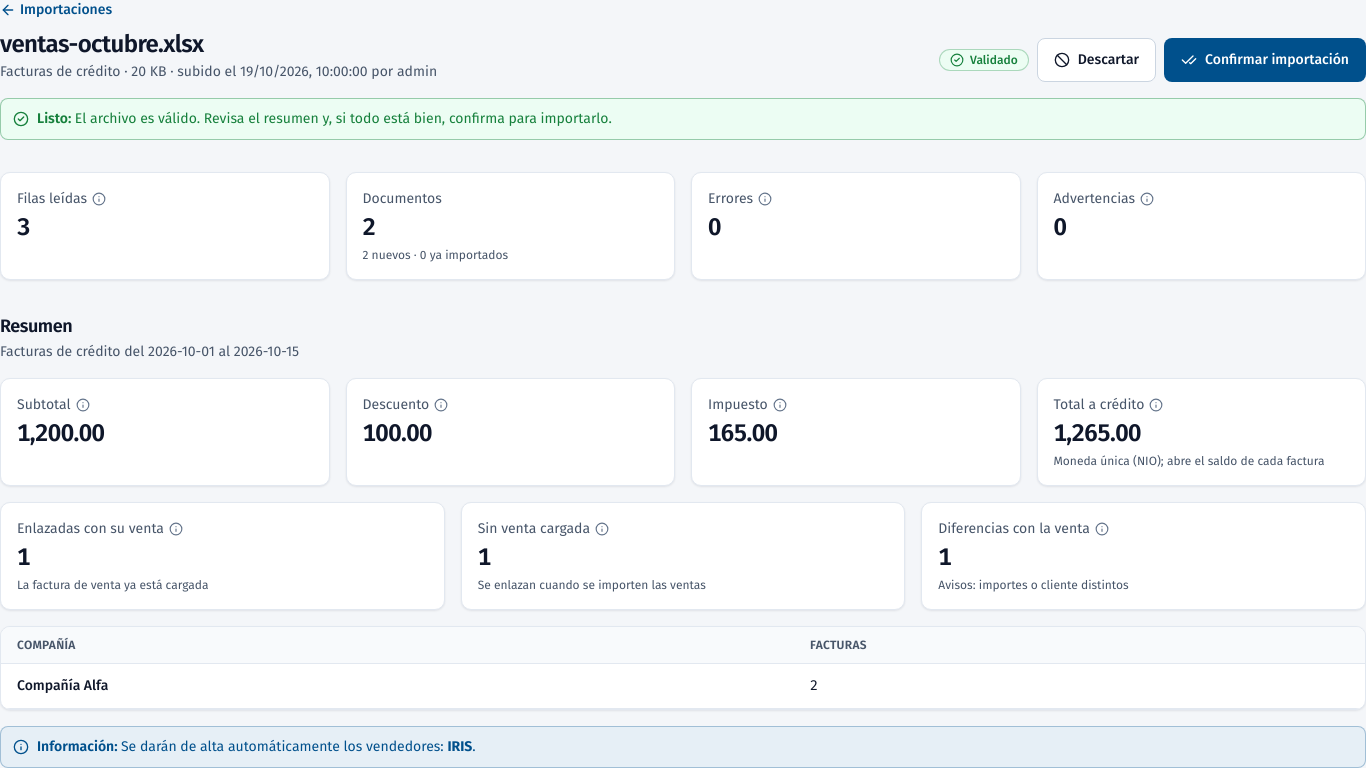
Test case: importaciones › un lote de facturas de crédito muestra totales, enlaces con la venta y su confirmación lo explica
The width and height of the screenshot is (1366, 768).
Expected: the text "Facturas de crédito del 2026-10-01 al 2026-10-15" is shown, [0,342,299,362]
Expected: the text "Total a crédito" shows "1,265.00", [1054,419,1141,447]
Click the button "Confirmar importación" at (1265, 60), box [1164,38,1365,82]
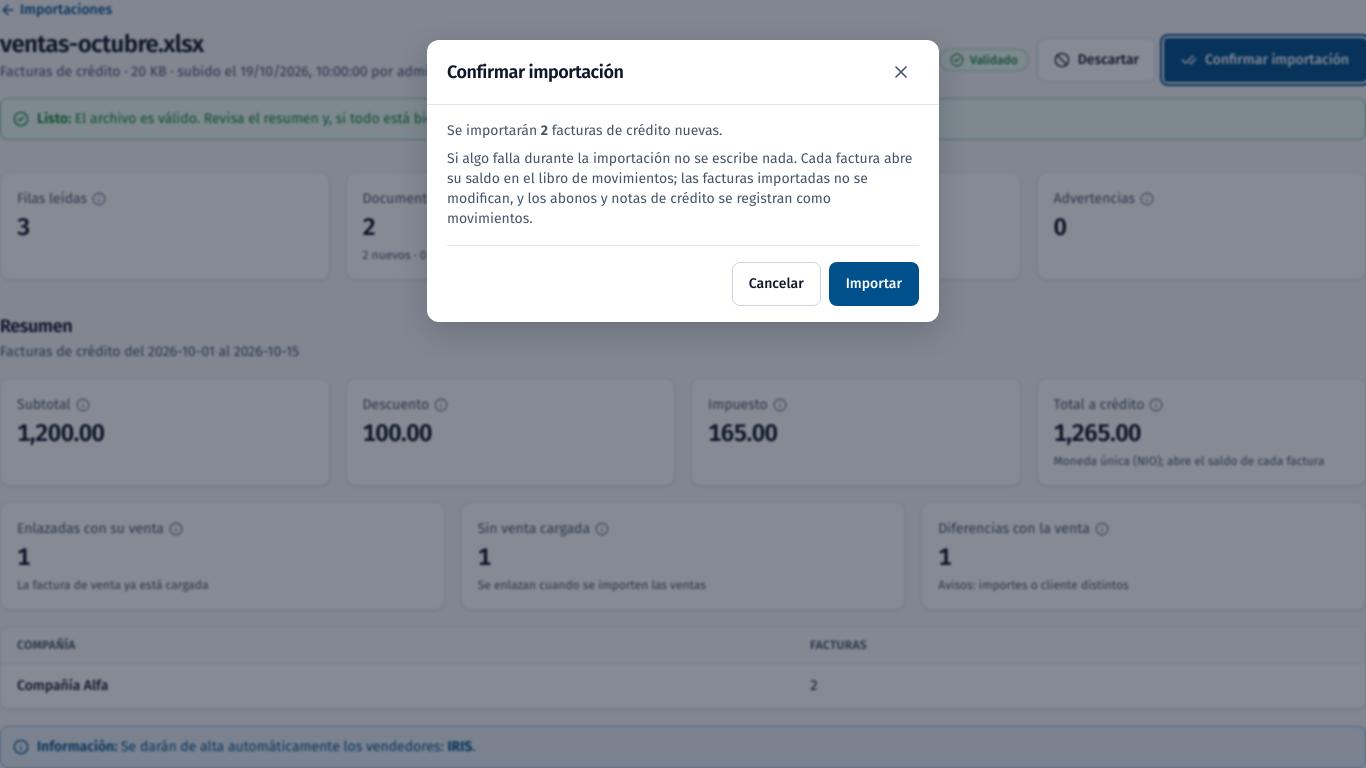
Expected: the dialog "Confirmar importación" shows "2 facturas de crédito nuevas", [427,40,939,322]
Expected: the dialog "Confirmar importación" shows "abre su saldo en el libro de movimientos", [447,150,912,227]
